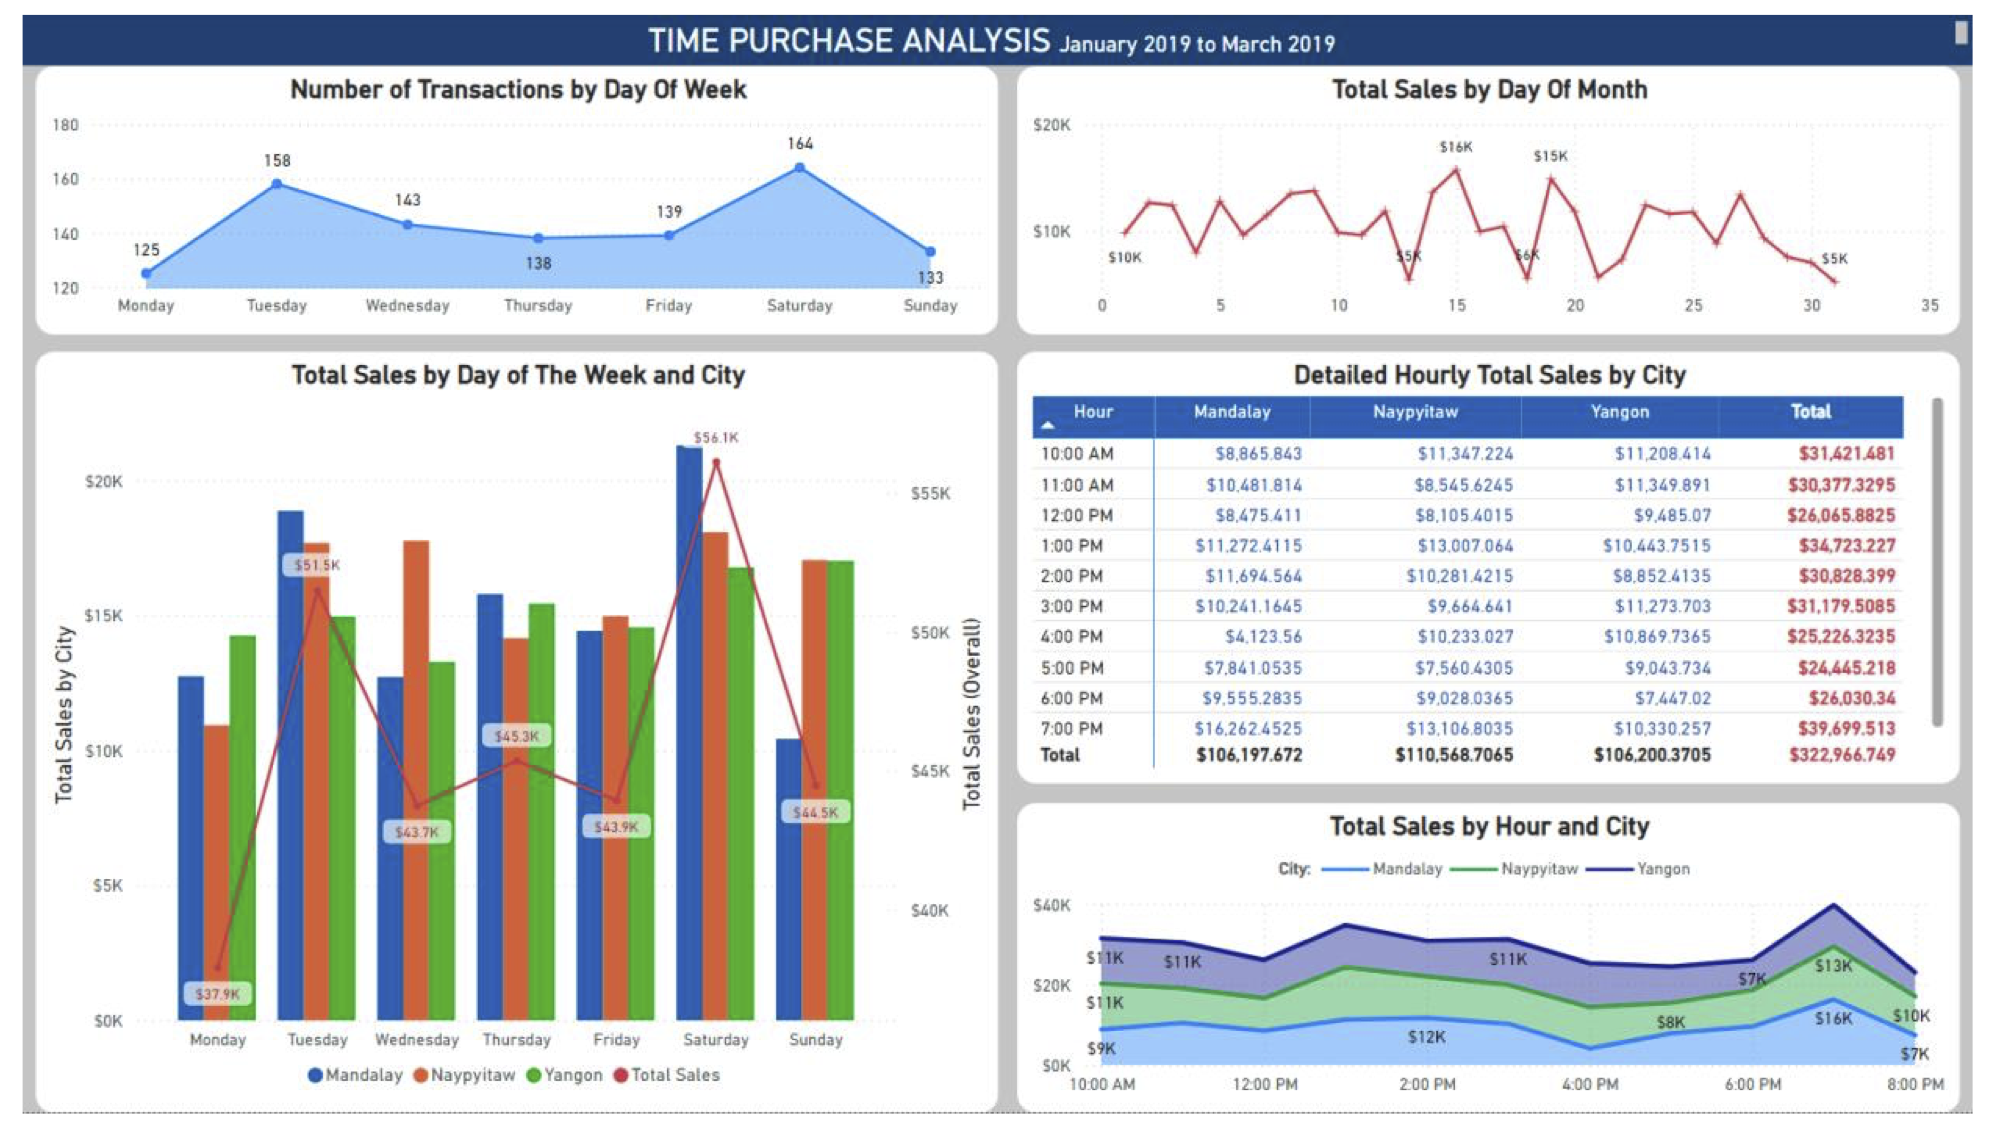

This screenshot's page, from the dashboard's own definition file:
{"tool":"powerbi","page":{"name":"Time Purchase Analysis","canvas":[1280,720],"ordinal":2},"visuals":[{"type":"textbox","box":[0,0,1280,34.3],"z":0},{"type":"stackedAreaChart","title":"Total Sales by Hour and City","fields":{"Category":["Sales.Grouped Hour"],"Y":["Sales.Total Sales"],"Series":["Sales.City"]},"box":[652.9,517.5,616.7,202.7],"z":1000},{"type":"pivotTable","title":"Detailed Hourly Total Sales by City","fields":{"Values":["Sales.Total Sales"],"Rows":["Sales.Grouped Hour"],"Columns":["Sales.City"]},"box":[652.9,221.4,617.1,282.9],"z":2000},{"type":"lineClusteredColumnComboChart","title":"Total Sales by Day of The Week and City","fields":{"Category":["Sales.Day Of Week"],"Y":["Sales.Total Sales"],"Series":["City.City"],"Y2":["Sales.Total Sales"]},"box":[10,221.4,630,498.6],"z":3000},{"type":"lineChart","fields":{"Category":["Sales.Day Of Week"],"Y":["Sales.Number of Transactions"]},"box":[10,34.3,630,175.7],"z":4000},{"type":"lineChart","title":"Total Sales by Day Of Month","fields":{"Y":["Sales.Total Sales"],"Category":["Sales.Date.Variation.Date Hierarchy.Day"]},"box":[652.9,34.3,617.1,175.7],"z":5000}]}

Visuals, with their boxes in screenshot pixels (x1, y1, x2, y2), scaled from the page's 1280x720 canvas onto the 1998x1130 screenshot:
textbox: (0, 0, 1997, 54)
"Total Sales by Hour and City" stackedAreaChart: (1019, 812, 1982, 1129)
"Detailed Hourly Total Sales by City" pivotTable: (1019, 347, 1982, 791)
"Total Sales by Day of The Week and City" lineClusteredColumnComboChart: (16, 347, 999, 1129)
lineChart - Sales.Day Of Week x Sales.Number of Transactions: (16, 54, 999, 330)
"Total Sales by Day Of Month" lineChart: (1019, 54, 1982, 330)
